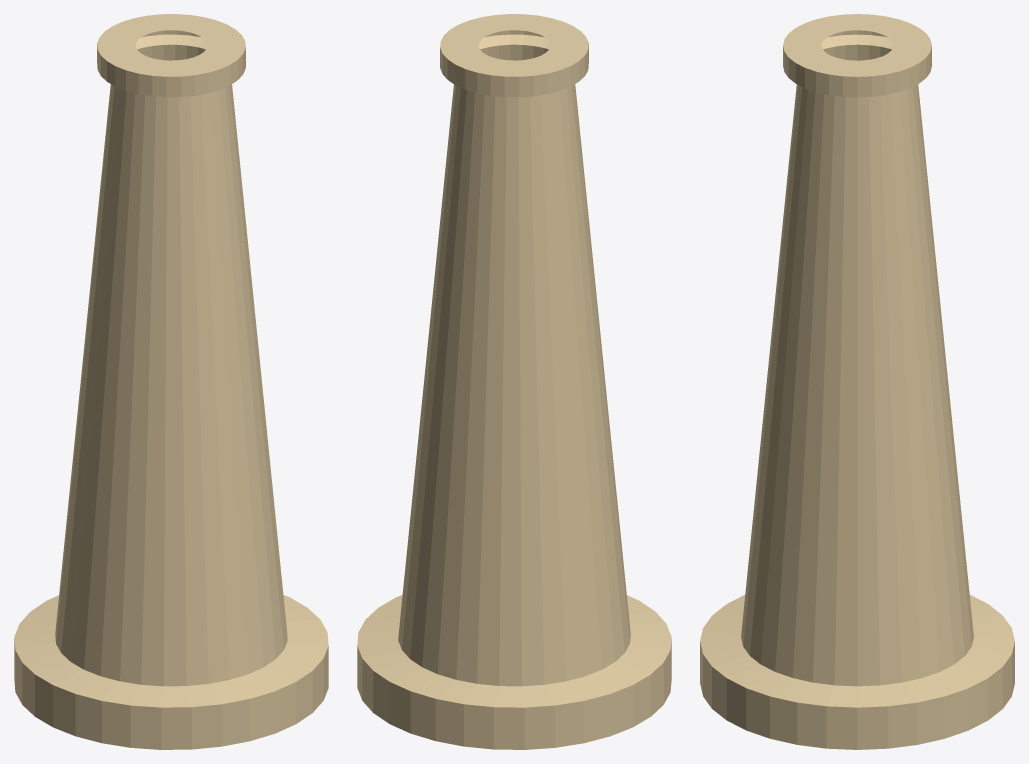
Rendered from HoseTip.fbx.
3 views of the same model, side by side, from view 1: azimuth 30°, elevation 25°; view 2: azimuth 150°, elevation 25°; view 3: azimuth 270°, elevation 25° (orthographic).
Visible parts, largest first — view 1: Cylinder; view 2: Cylinder; view 3: Cylinder.
Boxes of the visible parts, box(x1,y1,x2,y2) form: Cylinder: box(14, 14, 328, 749); Cylinder: box(357, 14, 671, 749); Cylinder: box(700, 14, 1014, 749).
Size of the model in its own units: 245 by 548 by 245.
